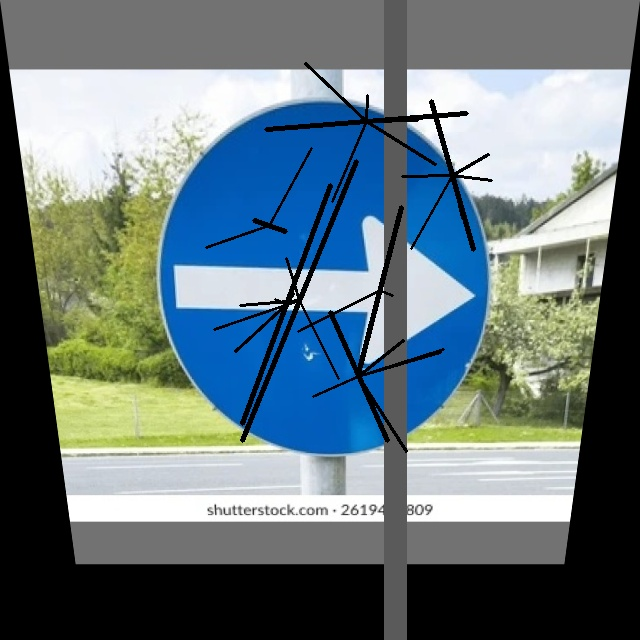Compulsory_Turn_Right: (152, 96, 508, 452)
